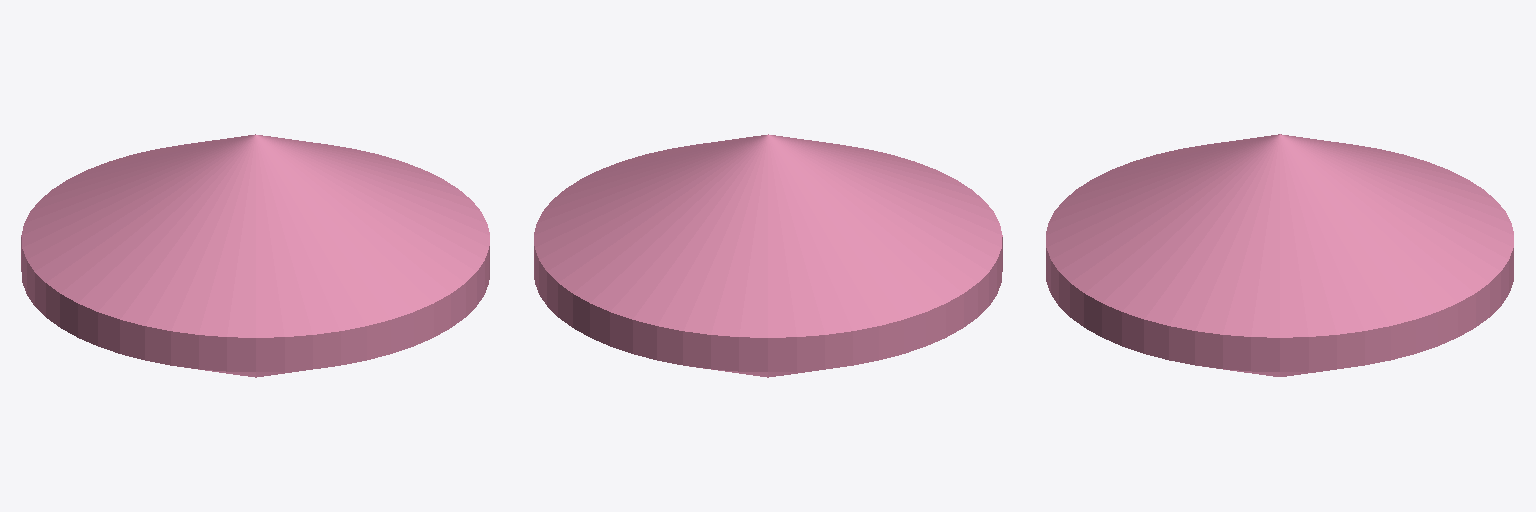
The picture shows the model from 3 angles: view 1: azimuth 30°, elevation 25°; view 2: azimuth 150°, elevation 25°; view 3: azimuth 270°, elevation 25°; orthographic projection.
Visible parts, largest first — view 1: Spindle001; view 2: Spindle001; view 3: Spindle001.
Part boxes in pixels (x1,y1,x2,y2): Spindle001: (21, 134, 489, 377); Spindle001: (534, 134, 1002, 377); Spindle001: (1046, 134, 1513, 376).
Bounding box in the file's own units: 25.55 × 14.63 × 25.57.